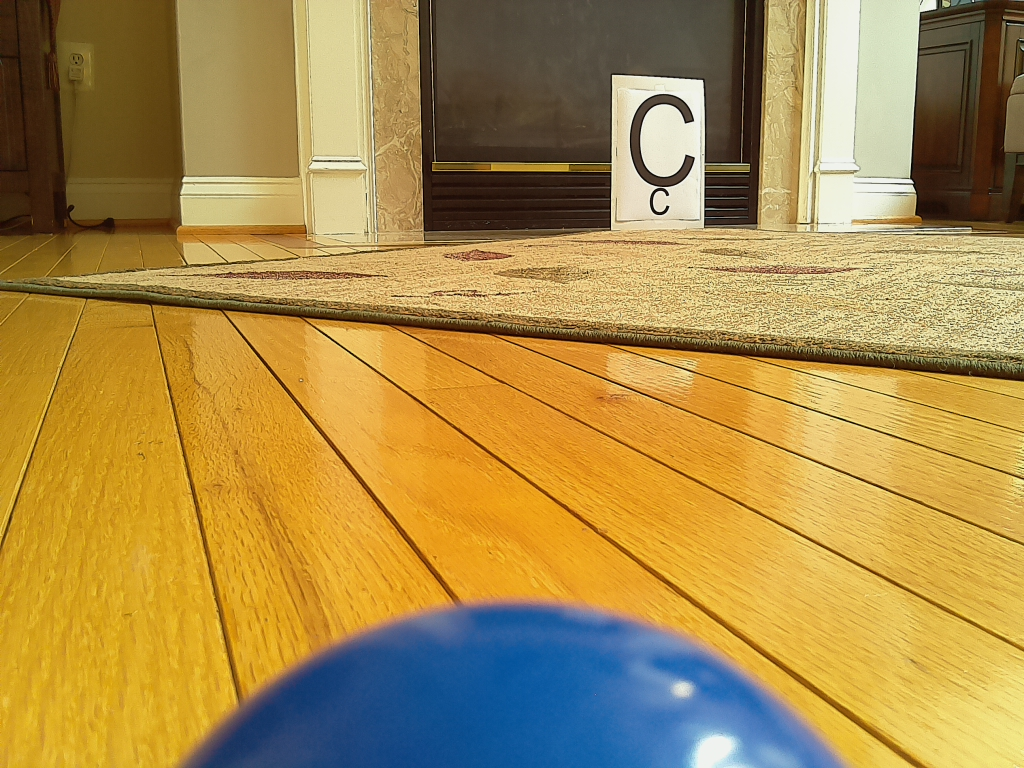letter: (630, 93, 694, 188)
